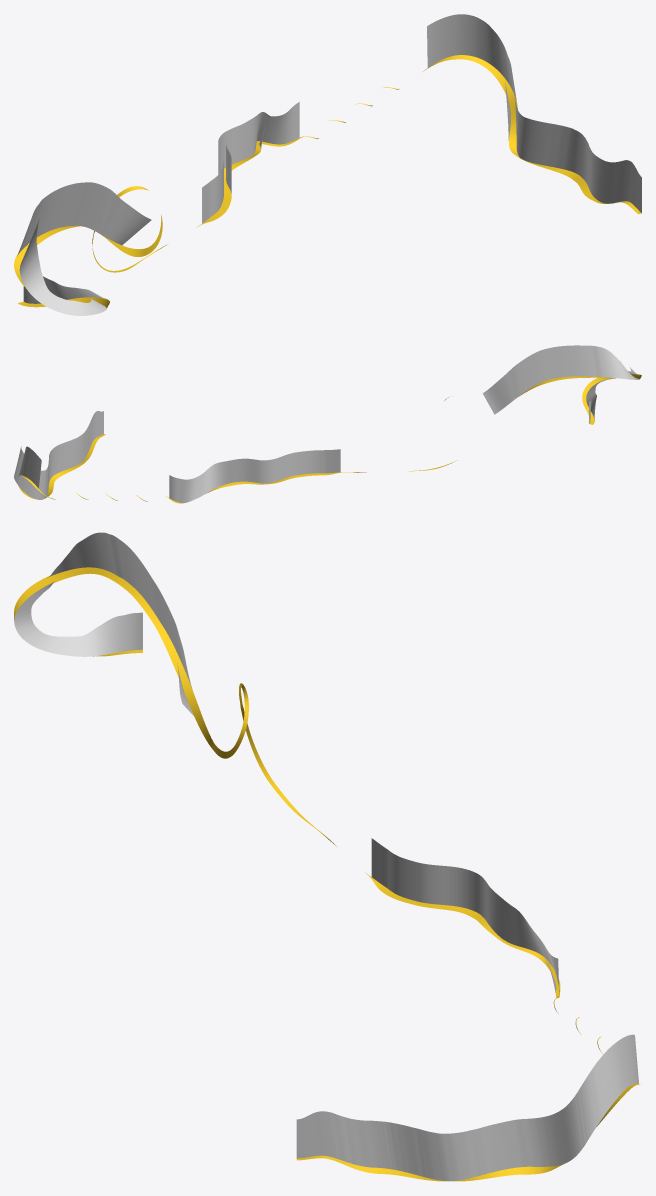
Rendered from SkyRoad03.gltf.
3 renders of one model, top to bottom at view 1: azimuth 30°, elevation 25°; view 2: azimuth 150°, elevation 25°; view 3: azimuth 270°, elevation 25°, orthographic. The views are drawn at different scales.
Visible parts, largest first — view 1: SkyRoadWall03, SkyRoad03; view 2: SkyRoadWall03, SkyRoad03; view 3: SkyRoadWall03, SkyRoad03.
Boxes of the visible parts, bbox=[...] form: SkyRoadWall03: bbox=[17, 14, 641, 315]; SkyRoad03: bbox=[14, 55, 641, 308]; SkyRoadWall03: bbox=[14, 345, 639, 502]; SkyRoad03: bbox=[18, 374, 641, 503]; SkyRoadWall03: bbox=[14, 532, 638, 1181]; SkyRoad03: bbox=[14, 567, 639, 1181].
Bounding box in the file's own units: 427 × 145 × 291.
